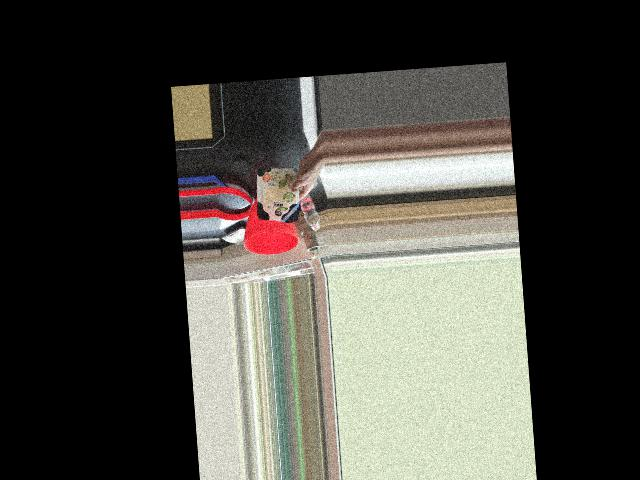cheese: (254, 169, 311, 225)
